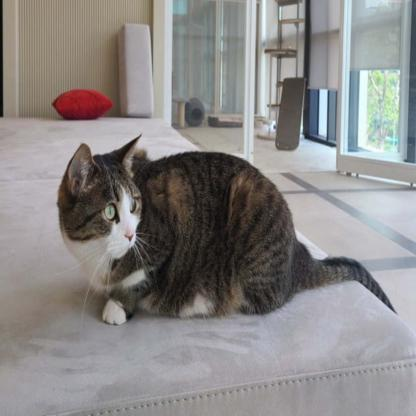cat: (56, 128, 404, 339)
